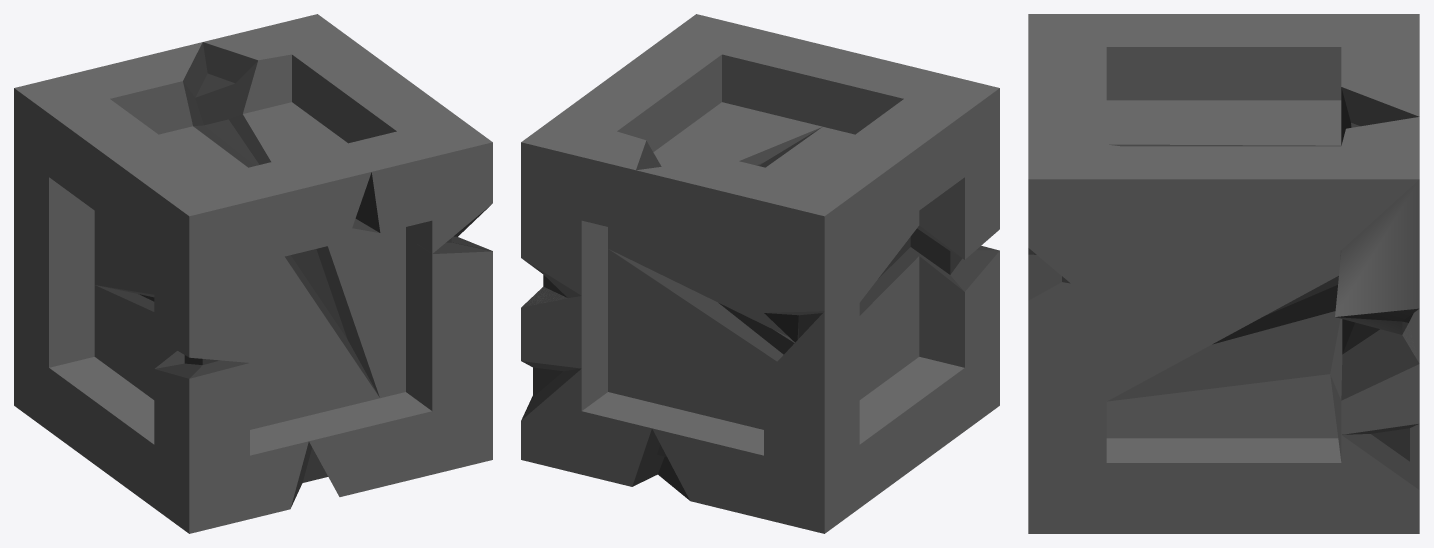
File: stoneNEWDAMAGED 2.fbx
The picture shows the model from 3 angles, left to right: view 1: azimuth 30°, elevation 25°; view 2: azimuth 150°, elevation 25°; view 3: azimuth 270°, elevation 25°; orthographic projection. The views are drawn at different scales.
Visible parts, largest first — view 1: Cube.001; view 2: Cube.001; view 3: Cube.001.
Boxes of the visible parts, x1,y1,x2,y2 form: Cube.001: (14,14,492,533); Cube.001: (521,14,999,533); Cube.001: (1028,14,1419,533).
Bounding box in the file's own units: 200 × 200 × 200.
